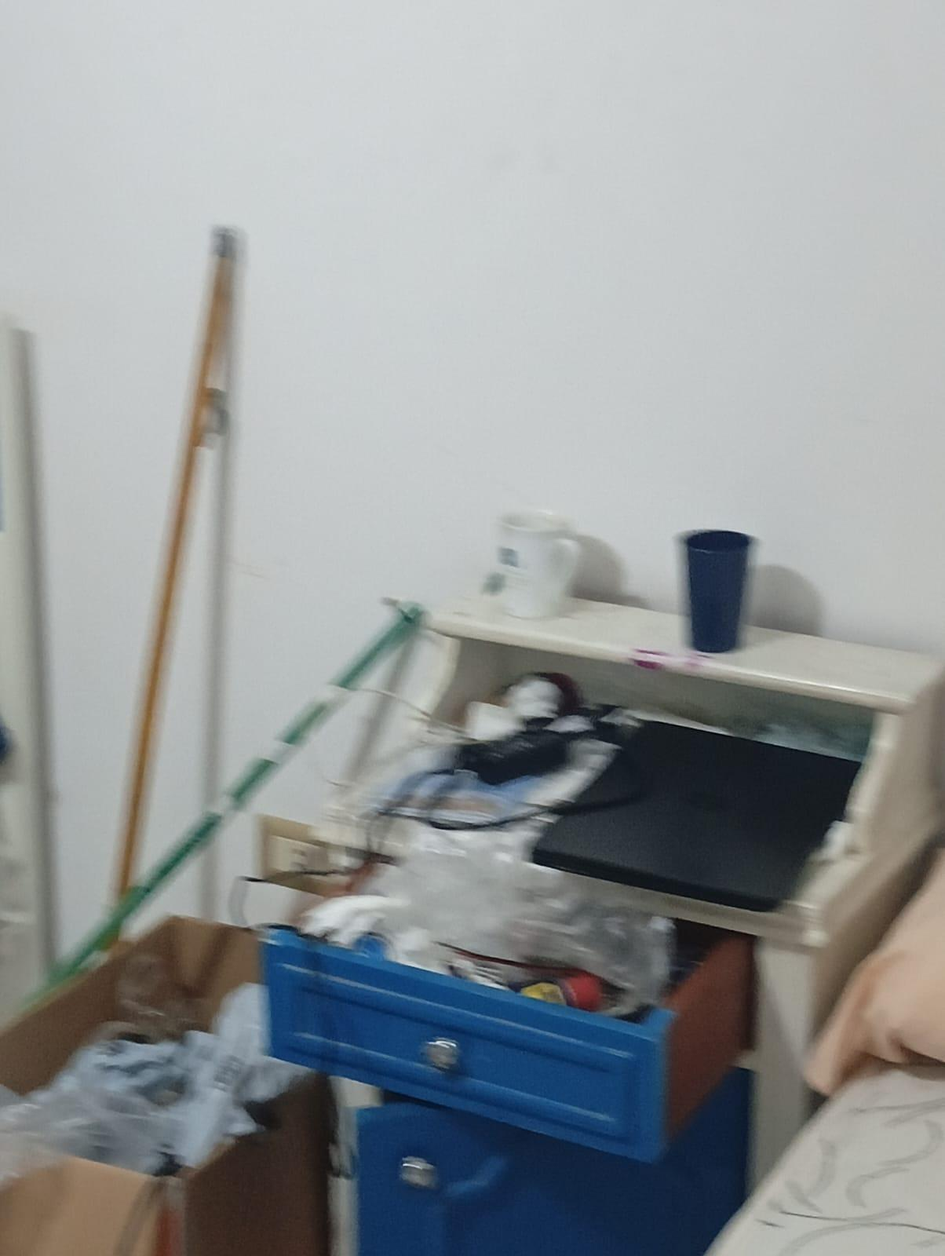cup: (680, 530, 753, 653), (498, 511, 581, 619)
